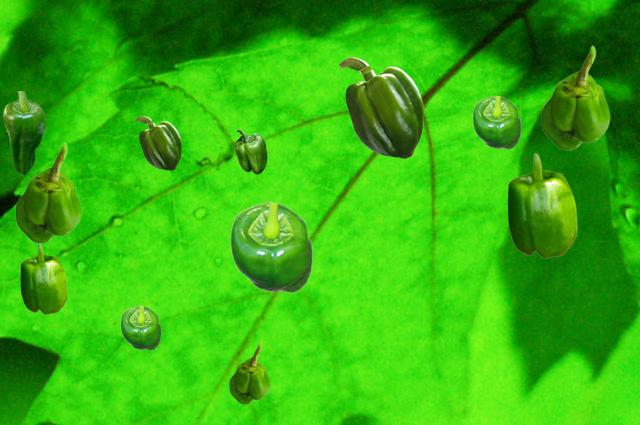bell_pepper: (338, 57, 422, 157), (229, 201, 312, 292), (507, 153, 576, 257), (541, 45, 609, 149), (15, 142, 80, 242), (3, 91, 44, 174), (20, 243, 66, 313), (472, 95, 520, 148), (229, 342, 269, 403), (135, 116, 180, 169), (120, 305, 160, 349), (234, 129, 266, 173)
